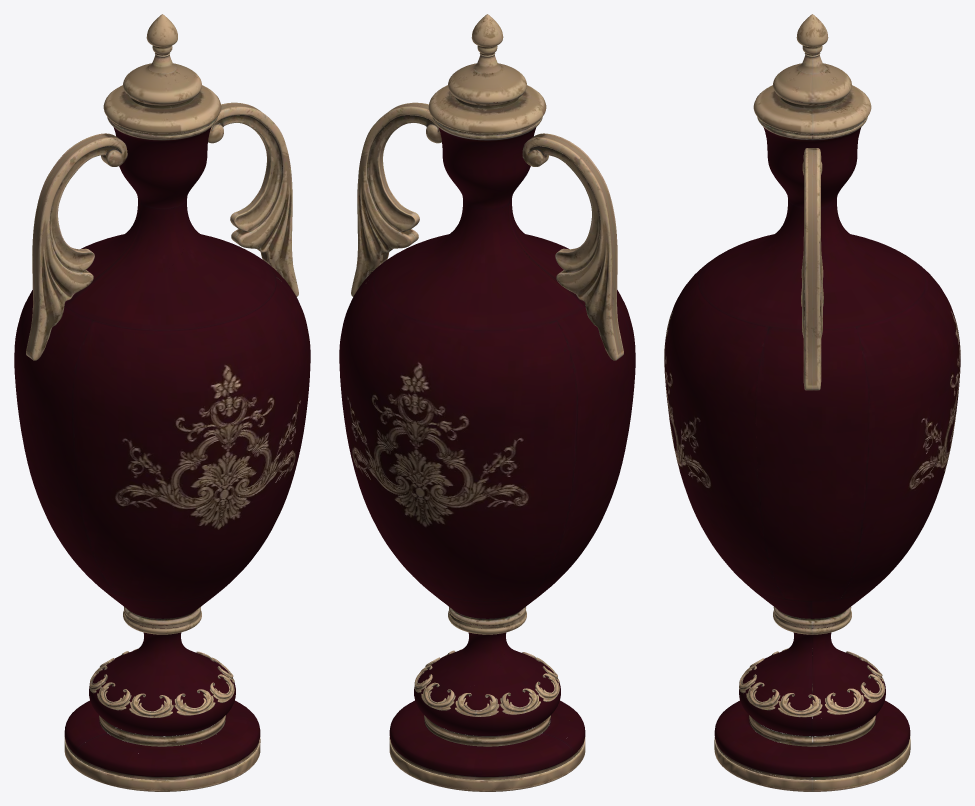
File: 静物_瓶罐_vases_opt_split_20260816092804_std_opt.glb
3 views of the same model, side by side, from view 1: azimuth 30°, elevation 25°; view 2: azimuth 150°, elevation 25°; view 3: azimuth 270°, elevation 25° (orthographic).
Parts seen in each view (by area): view 1: mesh_0, mesh_397; view 2: mesh_0, mesh_397; view 3: mesh_0, mesh_397.
Boxes of the visible parts, x1,y1,x2,y2 form: mesh_0: [14, 14, 310, 791]; mesh_397: [26, 102, 298, 717]; mesh_0: [339, 14, 635, 791]; mesh_397: [351, 102, 623, 716]; mesh_0: [664, 14, 960, 791]; mesh_397: [739, 148, 884, 717].
Size of the model in its own units: 0.1137 by 0.3 by 0.1094.
2 materials, 2 textured.
